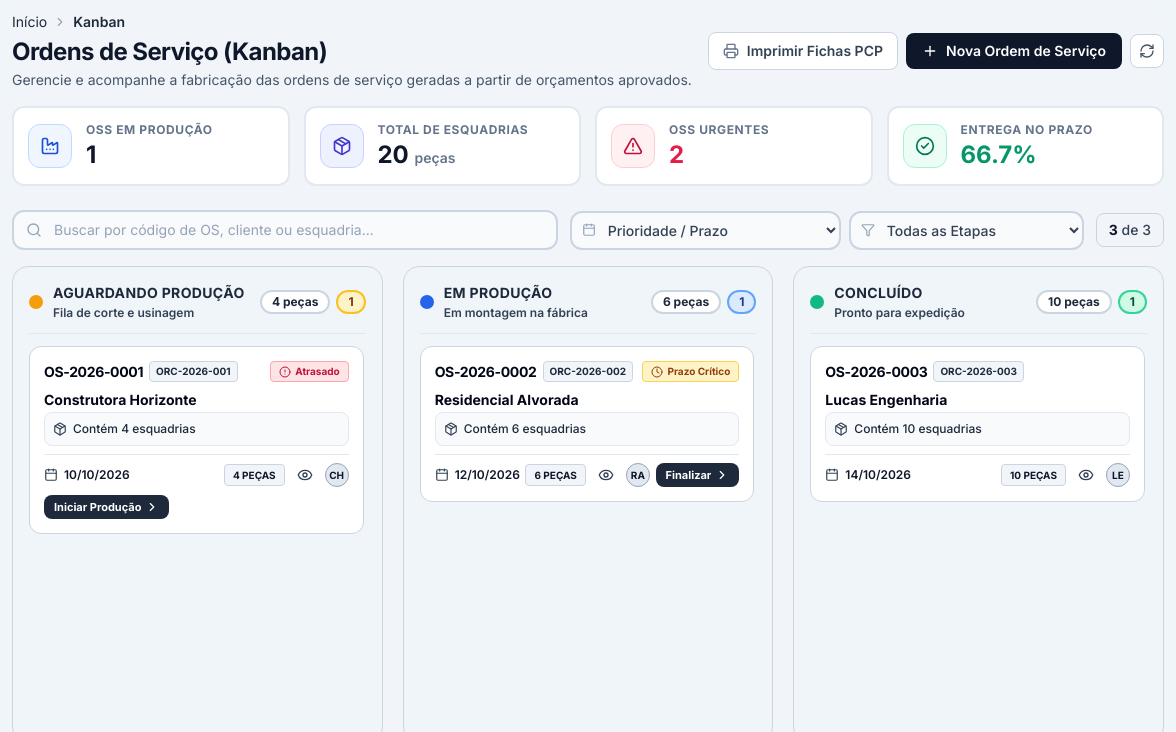
ProductionKanbanPage Component (US-18.5) › deve filtrar ordens por etapa de produção
Select "Em Produção" in the dropdown with test id "select-filter-status" at (966,230), box [849,210,1084,250]
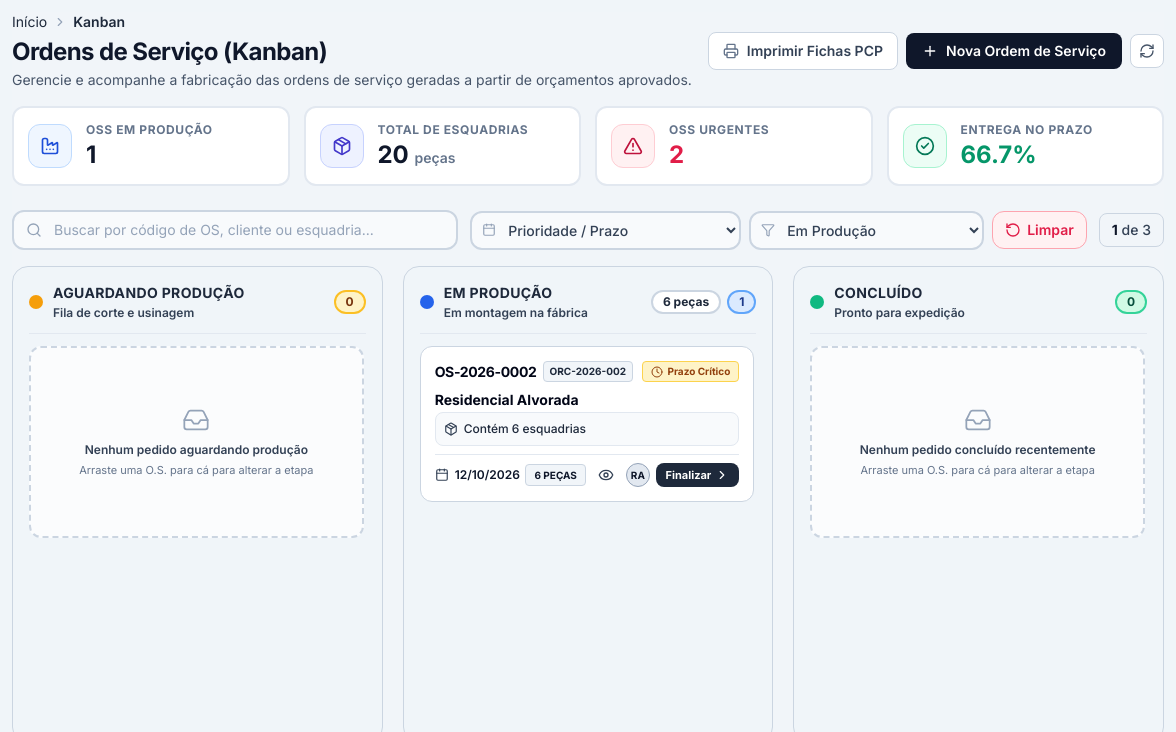
Expected: the text "OS-2026-0002" is shown, [435,362,537,382]
Expected: the text "OS-2026-0001" is gone
Expected: the text "OS-2026-0003" is gone
